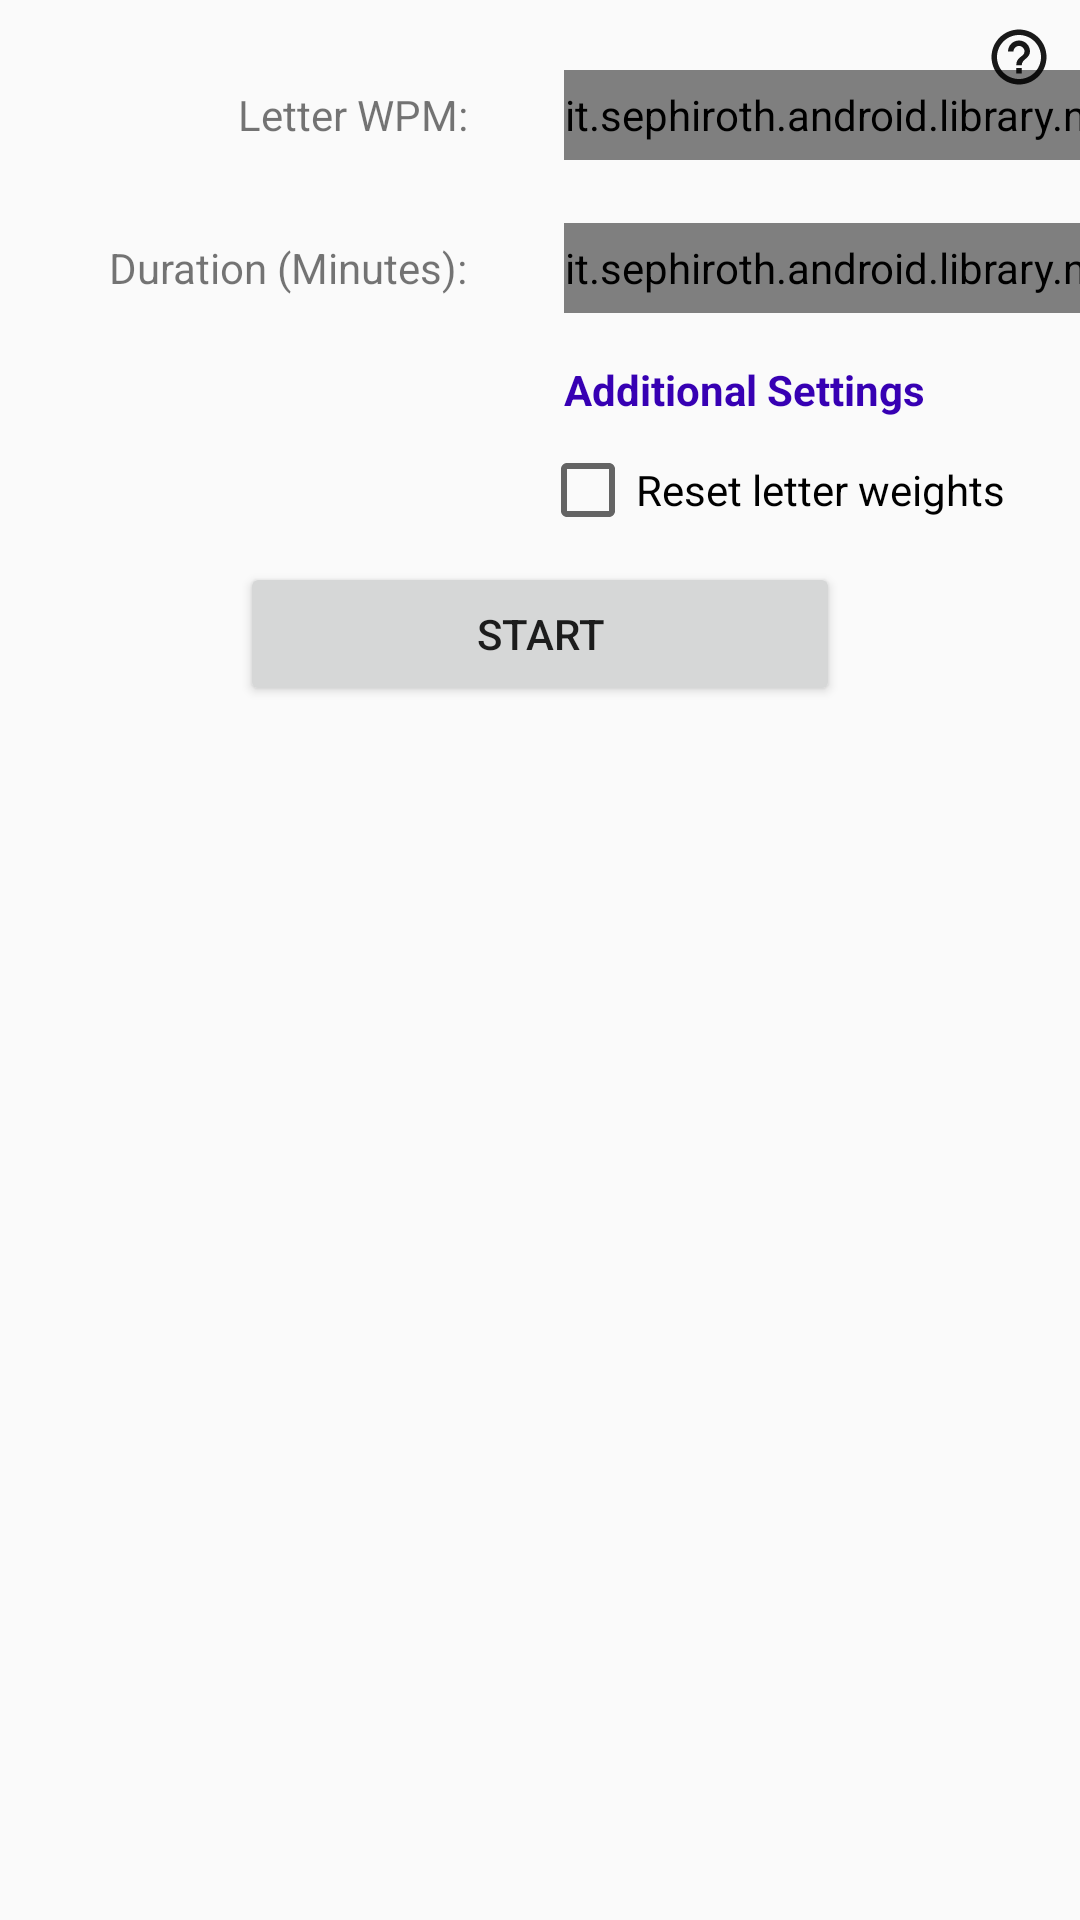

Icon click points for this 1080px x 1920px phone screenshot, format (x,y):
help: (1018,57)
